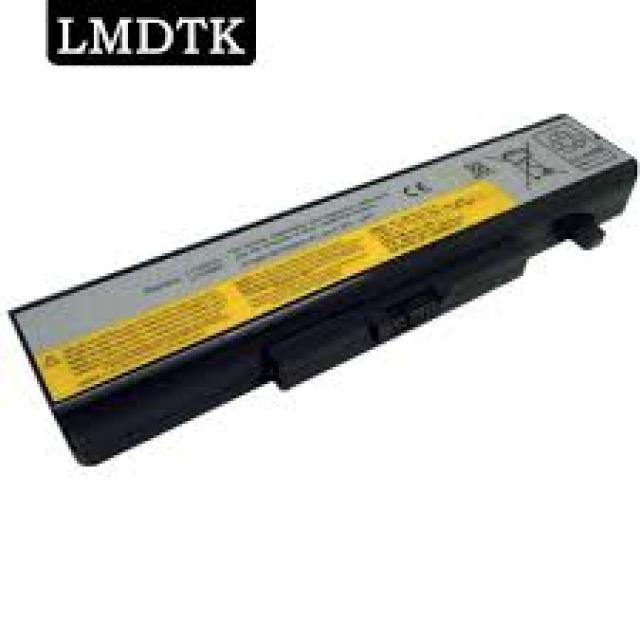non-organic waste: (11, 112, 637, 467)
